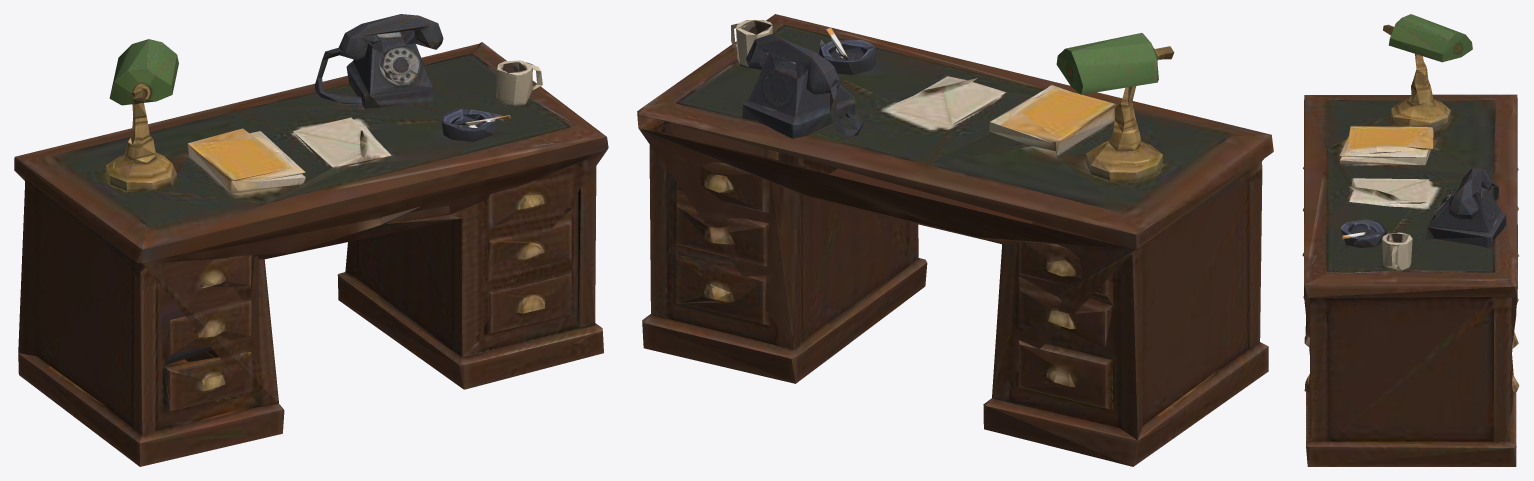
File: mesa_detetive.glb
3 renders of one model, left to right at view 1: azimuth 30°, elevation 25°; view 2: azimuth 150°, elevation 25°; view 3: azimuth 270°, elevation 25°, orthographic. The views are drawn at different scales.
Visible parts, largest first — view 1: Mesh_0; view 2: Mesh_0; view 3: Mesh_0.
Part boxes in pixels (x1=…): Mesh_0: x1=14, y1=14, x2=608, y2=466; Mesh_0: x1=637, y1=14, x2=1273, y2=466; Mesh_0: x1=1302, y1=14, x2=1519, y2=466.
Size of the model in its own units: 1.15 by 0.8 by 0.5487.
Materials: 1 (1 with a texture image).
